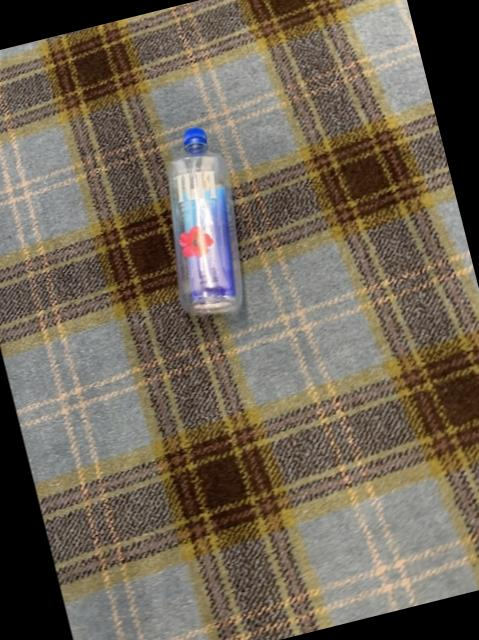plastic: (168, 126, 243, 313)
